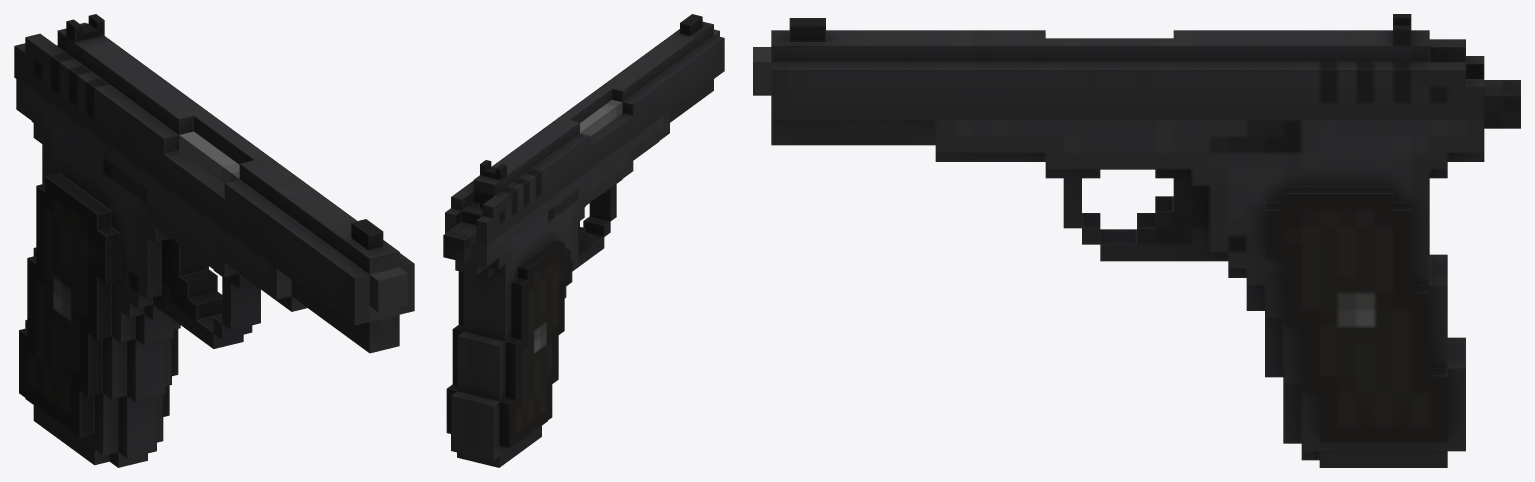
3 renders of one model, left to right at view 1: azimuth 30°, elevation 25°; view 2: azimuth 150°, elevation 25°; view 3: azimuth 270°, elevation 25°, orthographic. The views are drawn at different scales.
Visible parts, largest first — view 1: TT_BODY, TT_FRAME, TT_CLIP; view 2: TT_BODY, TT_FRAME, TT_TRIGGER, TT_CLIP; view 3: TT_BODY, TT_FRAME, TT_CLIP, TT_TRIGGER.
Boxes of the visible parts, x1,y1,x2,y2 form: TT_BODY: (16,78,408,458); TT_FRAME: (16,14,414,353); TT_CLIP: (33,405,147,467); TT_BODY: (446,29,719,460); TT_FRAME: (445,14,724,244); TT_TRIGGER: (443,206,482,262); TT_CLIP: (457,426,541,467); TT_BODY: (753,47,1484,451); TT_FRAME: (771,14,1484,145); TT_CLIP: (1301,451,1447,467); TT_TRIGGER: (1484,80,1520,128).
Size of the model in its own units: 0.059 by 0.2559 by 0.4134.
Materials: 1 (1 with a texture image).
